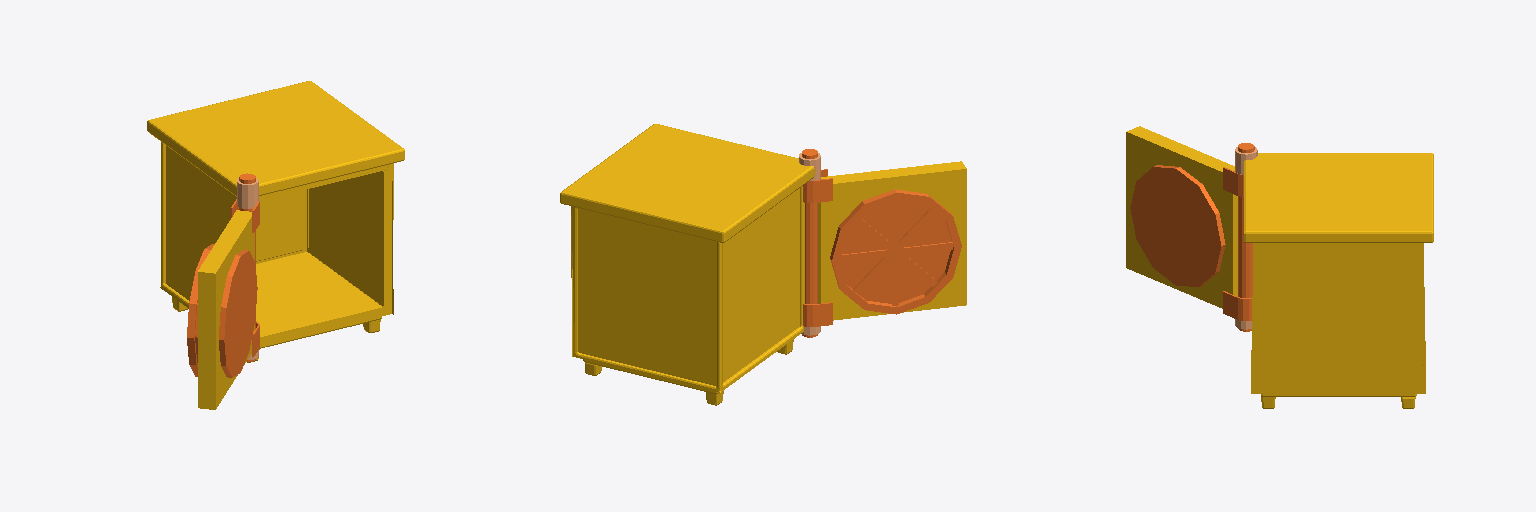
Rendered from safe_açıkk.obj.
3 views of the same model, side by side, from view 1: azimuth 30°, elevation 25°; view 2: azimuth 150°, elevation 25°; view 3: azimuth 270°, elevation 25° (orthographic).
Visible parts, largest first — view 1: Cube.031_Material.019, Cube.031_Material.021, Cube.031_Material.022, Cube.031_Material.024; view 2: Cube.031_Material.019, Cube.031_Material.021, Cube.031_Material.022; view 3: Cube.031_Material.019, Cube.031_Material.021, Cube.031_Material.022.
Part boxes in pixels (left/top/right/bottom): Cube.031_Material.019: left=147, top=81, right=404, bottom=362; Cube.031_Material.021: left=187, top=173, right=259, bottom=377; Cube.031_Material.022: left=198, top=210, right=254, bottom=409; Cube.031_Material.024: left=237, top=178, right=258, bottom=359; Cube.031_Material.019: left=560, top=124, right=814, bottom=405; Cube.031_Material.021: left=802, top=149, right=961, bottom=337; Cube.031_Material.022: left=818, top=161, right=966, bottom=320; Cube.031_Material.019: left=1244, top=153, right=1433, bottom=408; Cube.031_Material.021: left=1130, top=143, right=1254, bottom=331; Cube.031_Material.022: left=1126, top=126, right=1237, bottom=308.
Size of the model in its own units: 49.99 by 35.37 by 50.51.